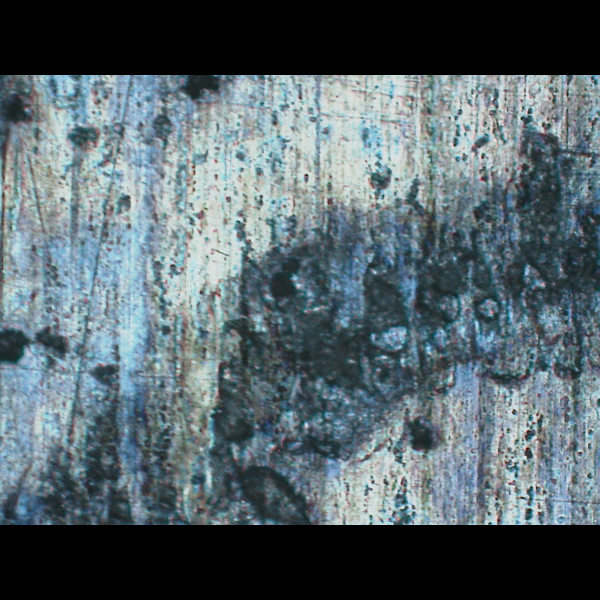d: (8, 137, 600, 524)
